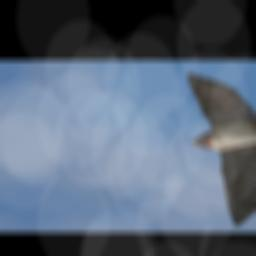Swallow: (186, 73, 256, 227)
